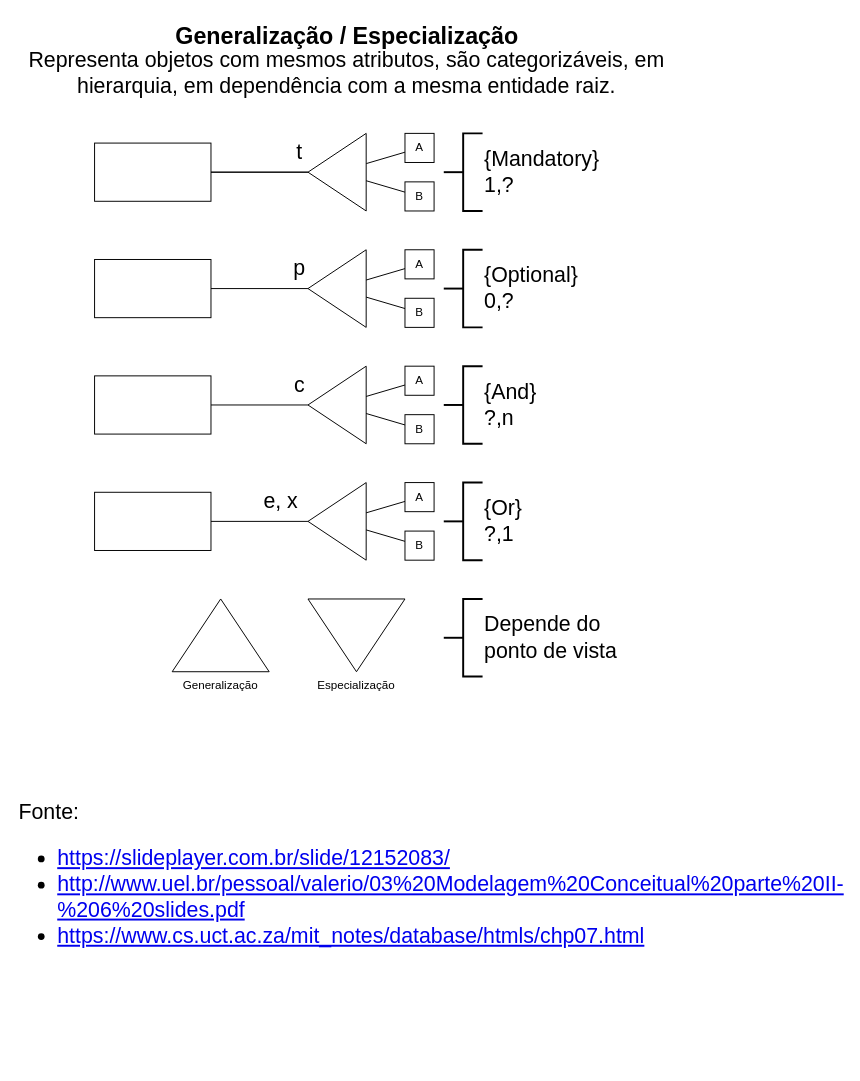
Some shapes in this 860 by 1081 pixel diagram are drawn without their labels. Here are the shapes that lost their labels. From the top down, the box of each, then its label:
(94, 142, 211, 201): Total
(94, 259, 211, 318): Parcial
(94, 375, 211, 434): Compartilhada
(94, 491, 211, 550): Exclusiva
